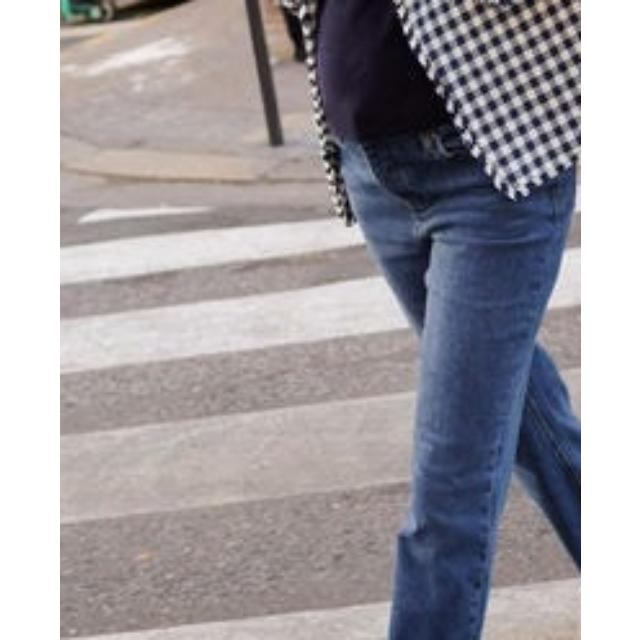cotton: (426, 1, 580, 88)
